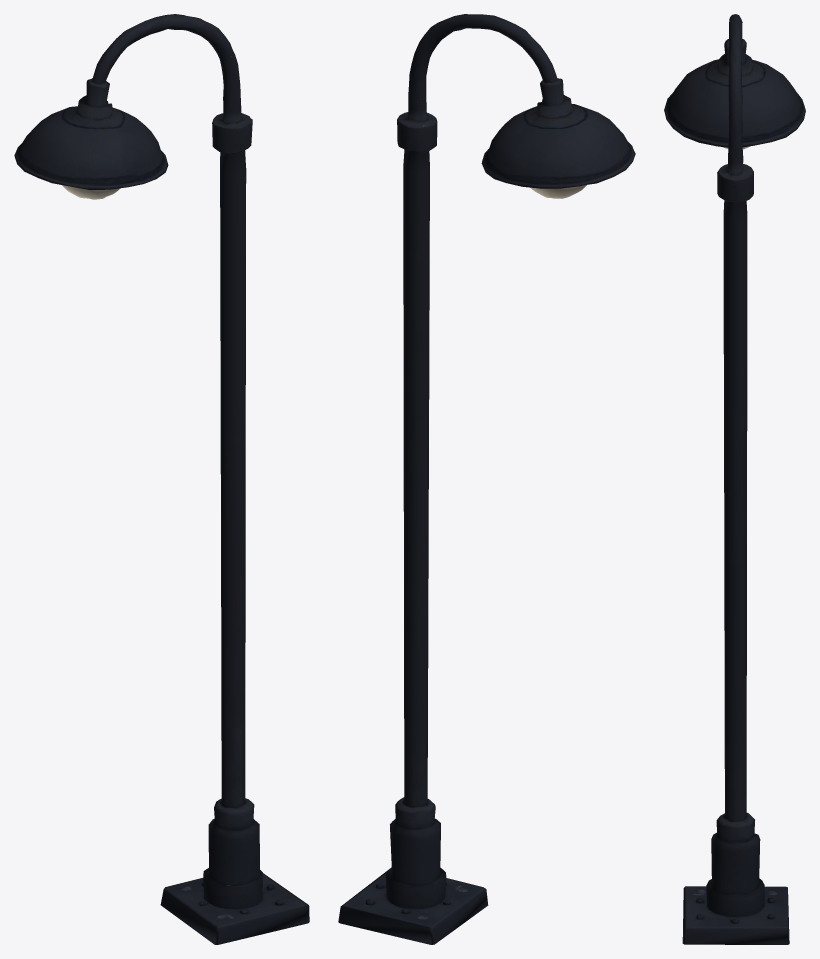
File: streetlamp.glb
3 renders of one model, left to right at view 1: azimuth 30°, elevation 25°; view 2: azimuth 150°, elevation 25°; view 3: azimuth 270°, elevation 25°, orthographic. The views are drawn at different scales.
Visible parts, largest first — view 1: streetlamp; view 2: streetlamp; view 3: streetlamp.
Part boxes in pixels (<box>): streetlamp: <box>14,14,309,944</box>; streetlamp: <box>338,14,635,944</box>; streetlamp: <box>664,14,805,944</box>.
Size of the model in its own units: 1.28 by 4.3 by 0.64.
Materials: 1 (1 with a texture image).
